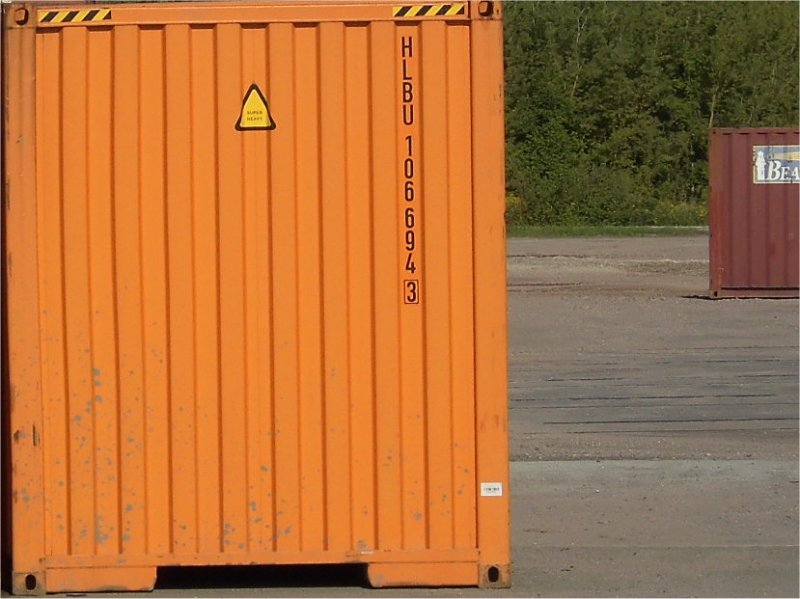container_no_door: (9, 3, 508, 587)
